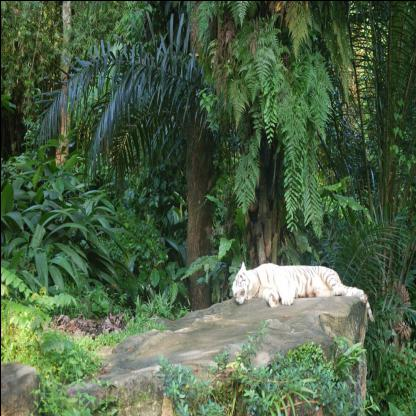tiger: (228, 262, 249, 312)
